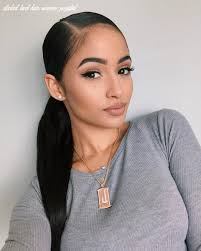person: (40, 10, 135, 132)
